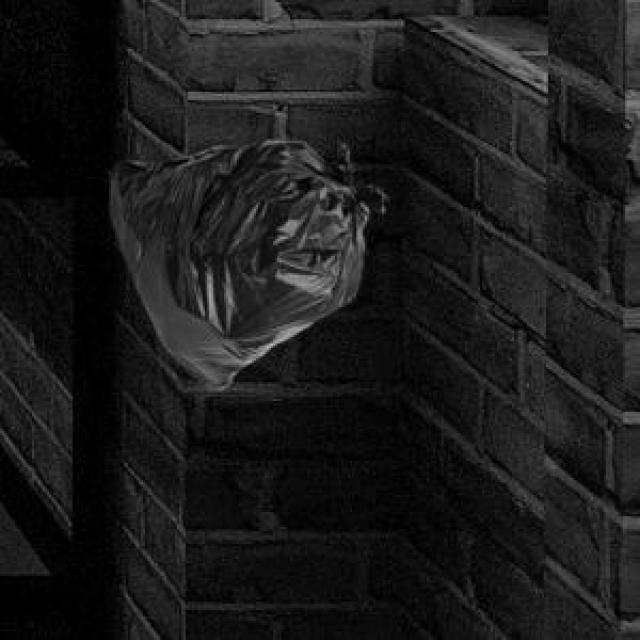miscellaneous trash: (105, 137, 384, 386)
